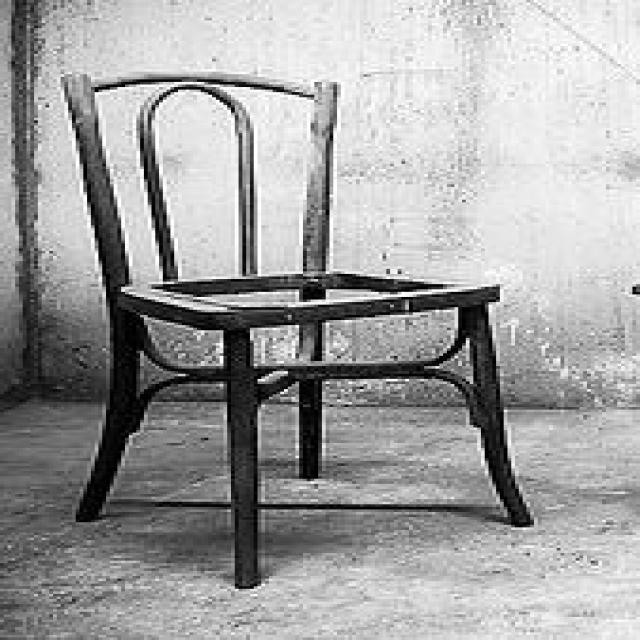chair: (61, 71, 534, 590)
